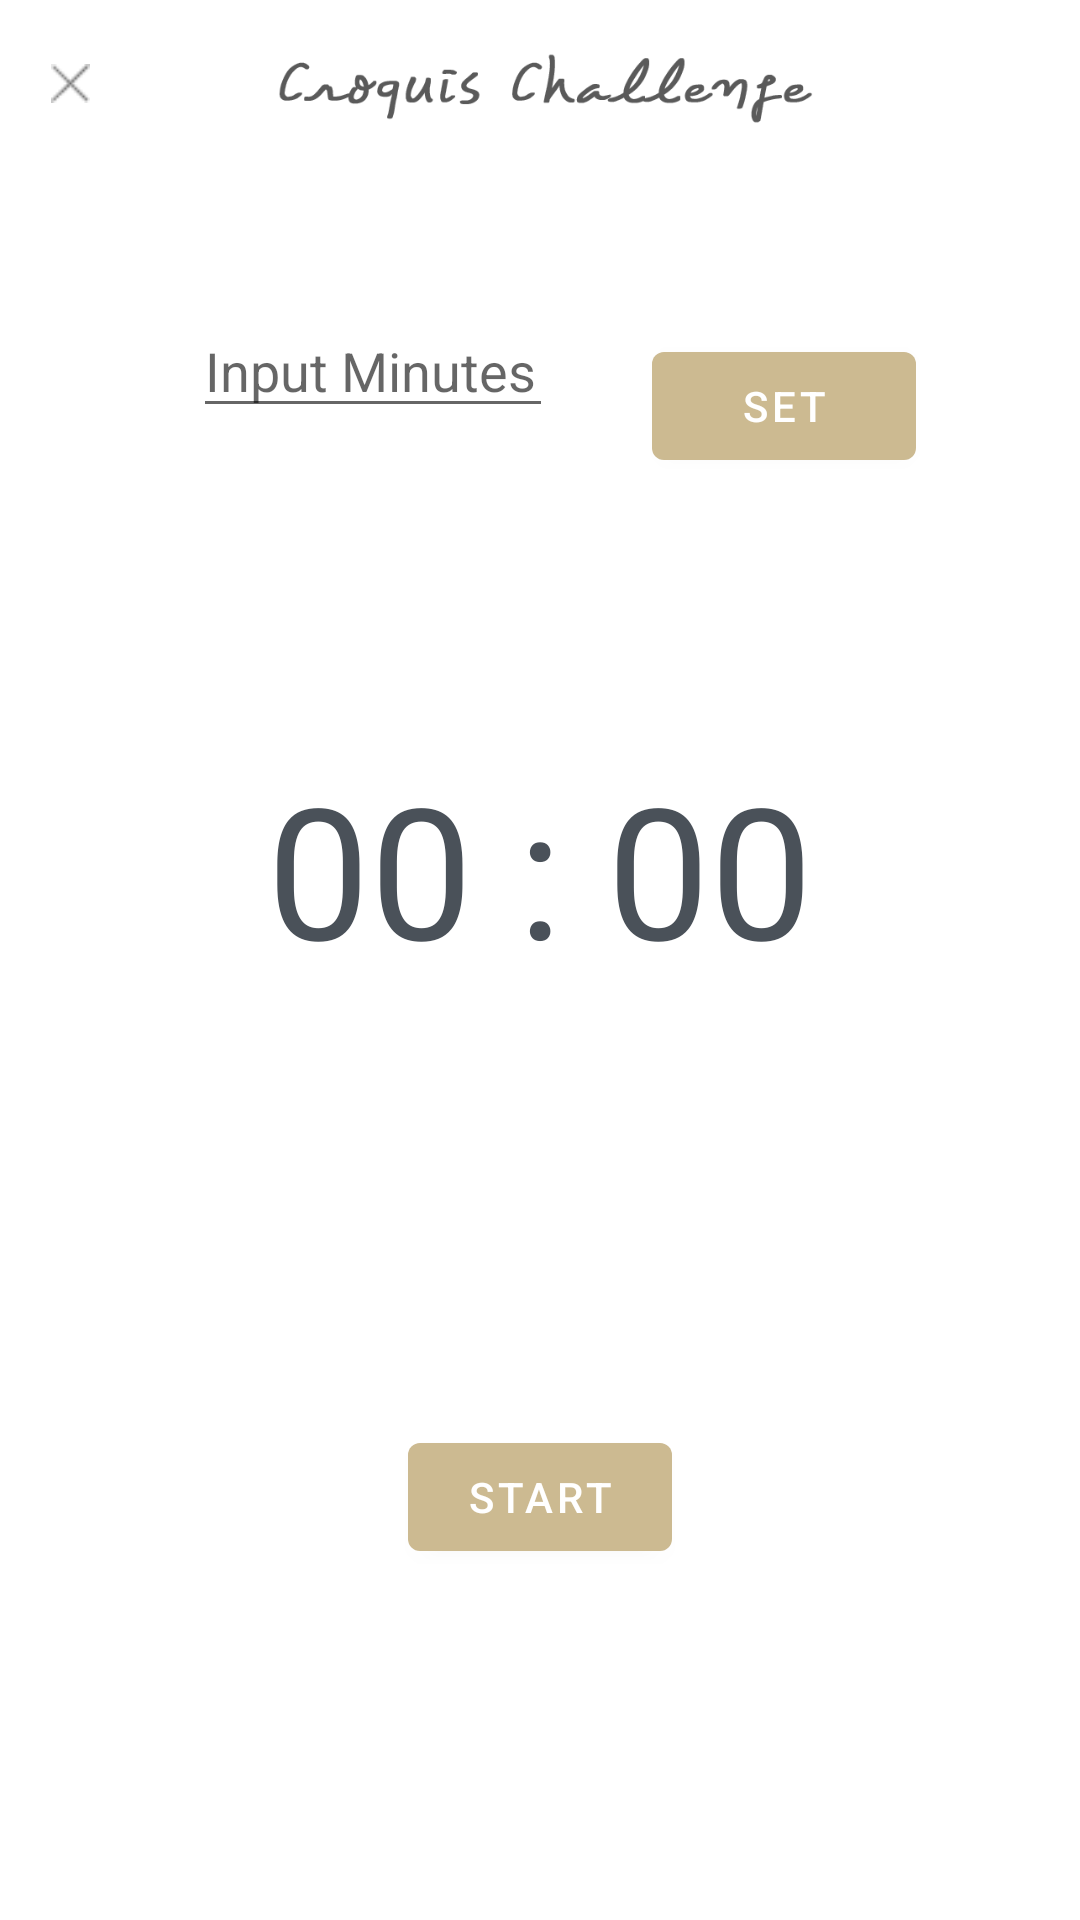

Icon bounding boxes for this 1080px×1920px phone screenshot, format bbox=[x1, y1, x2, y2]:
close: bbox=[51, 64, 90, 103]
